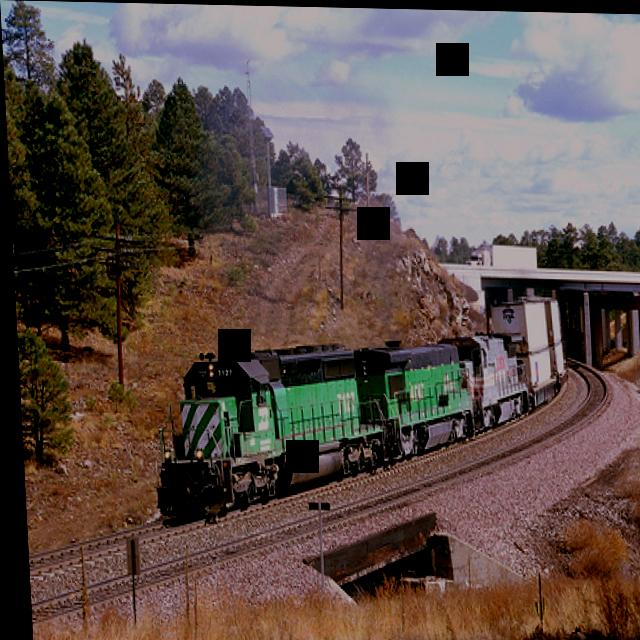locomotive: (137, 332, 373, 532), (348, 329, 468, 457), (449, 322, 527, 431)
